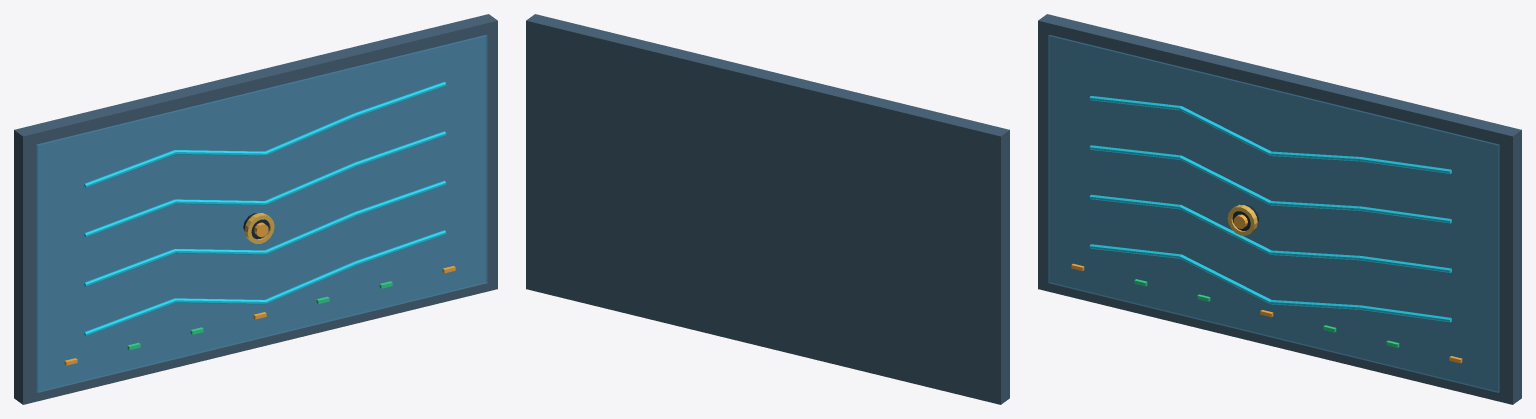
File: 65_L81_HolographicMissionHealthDisplay.fbx
3 views of the same model, side by side, from view 1: azimuth 30°, elevation 25°; view 2: azimuth 150°, elevation 25°; view 3: azimuth 330°, elevation 25° (orthographic).
Parts seen in each view (by area): view 1: HolographicMissionHealthDisplay; view 2: HolographicMissionHealthDisplay; view 3: HolographicMissionHealthDisplay.
Boxes of the visible parts, <box> form: HolographicMissionHealthDisplay: <box>14,14,497,404</box>; HolographicMissionHealthDisplay: <box>526,14,1009,404</box>; HolographicMissionHealthDisplay: <box>1038,14,1521,404</box>.
Bounding box in the file's own units: 211 × 114 × 21.65.
